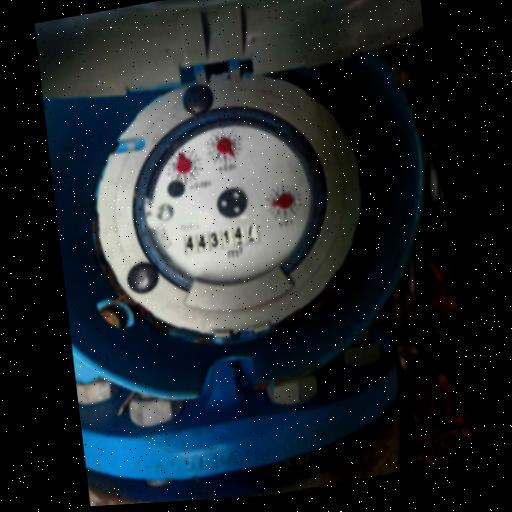1: (221, 228, 234, 247)
3: (210, 231, 222, 250)
4: (233, 227, 247, 246), (197, 232, 210, 252), (185, 235, 199, 253)
7: (246, 225, 259, 243)
border_water_meter_number: (184, 222, 262, 256)
